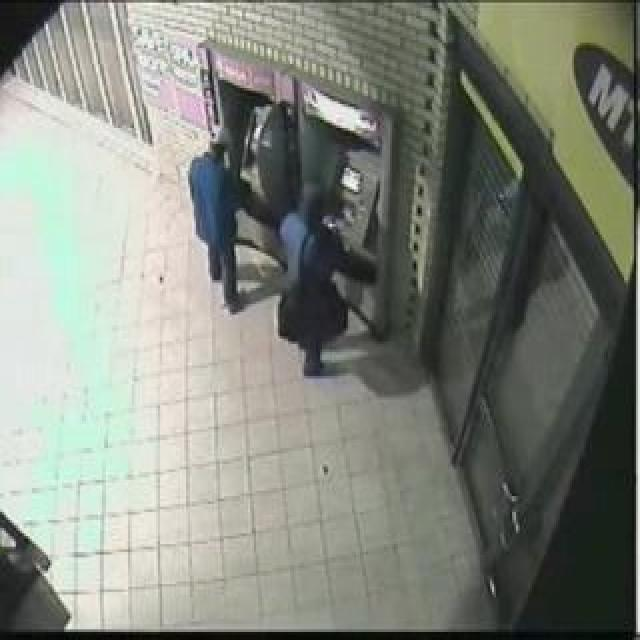thief: (190, 96, 353, 326)
